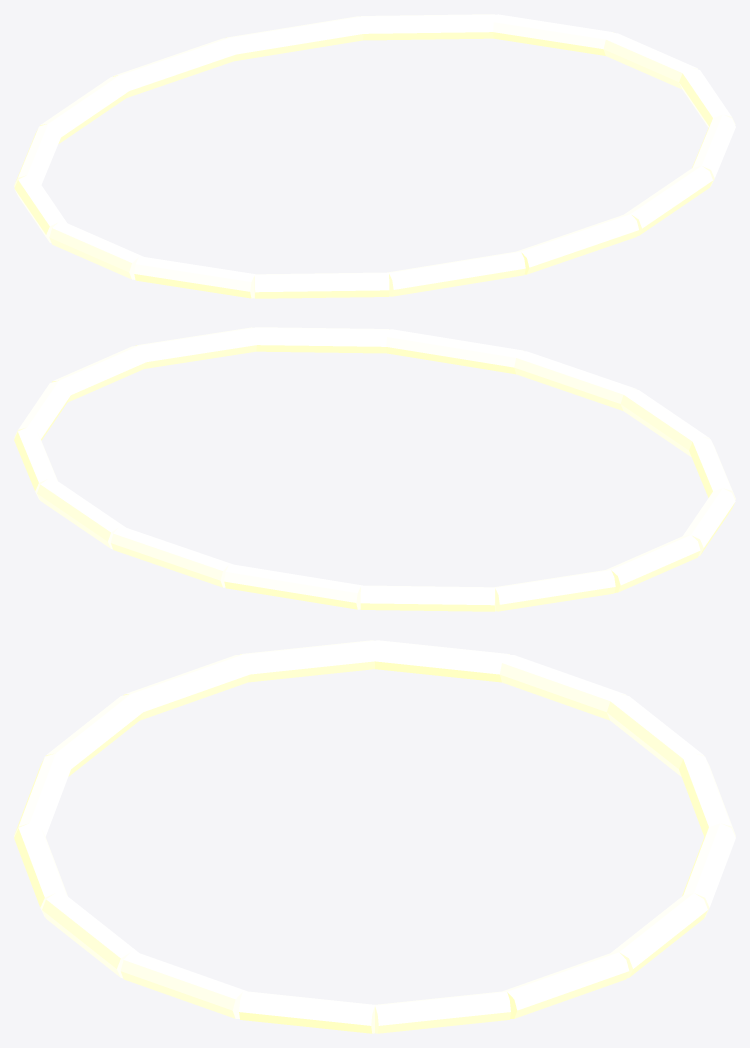
Rendered from sheetghost__halo.glb.
3 views of the same model, one above another, from view 1: azimuth 30°, elevation 25°; view 2: azimuth 150°, elevation 25°; view 3: azimuth 270°, elevation 25° (orthographic). The views are drawn at different scales.
Visible parts, largest first — view 1: Halo.001; view 2: Halo.001; view 3: Halo.001.
Part boxes in pixels (left/top/right/bottom): Halo.001: left=14, top=14, right=735, bottom=298; Halo.001: left=14, top=327, right=735, bottom=611; Halo.001: left=14, top=640, right=735, bottom=1033.
Bounding box in the file's own units: 0.7754 × 0.0264 × 0.6262.
